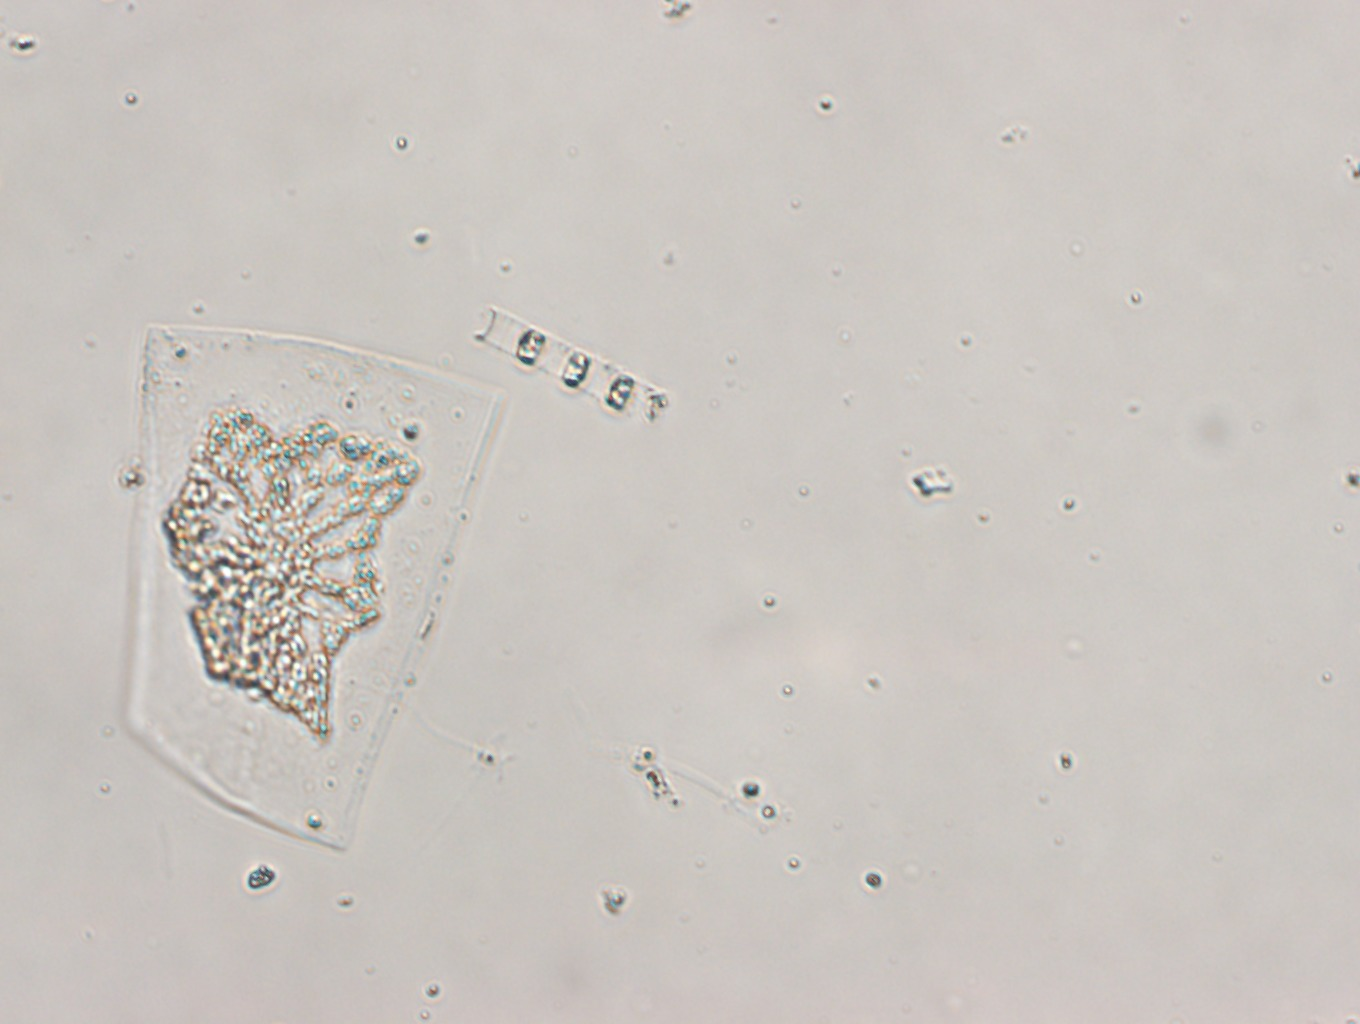helicotheca: (113, 319, 510, 857)
skeletonema: (471, 303, 668, 428)
